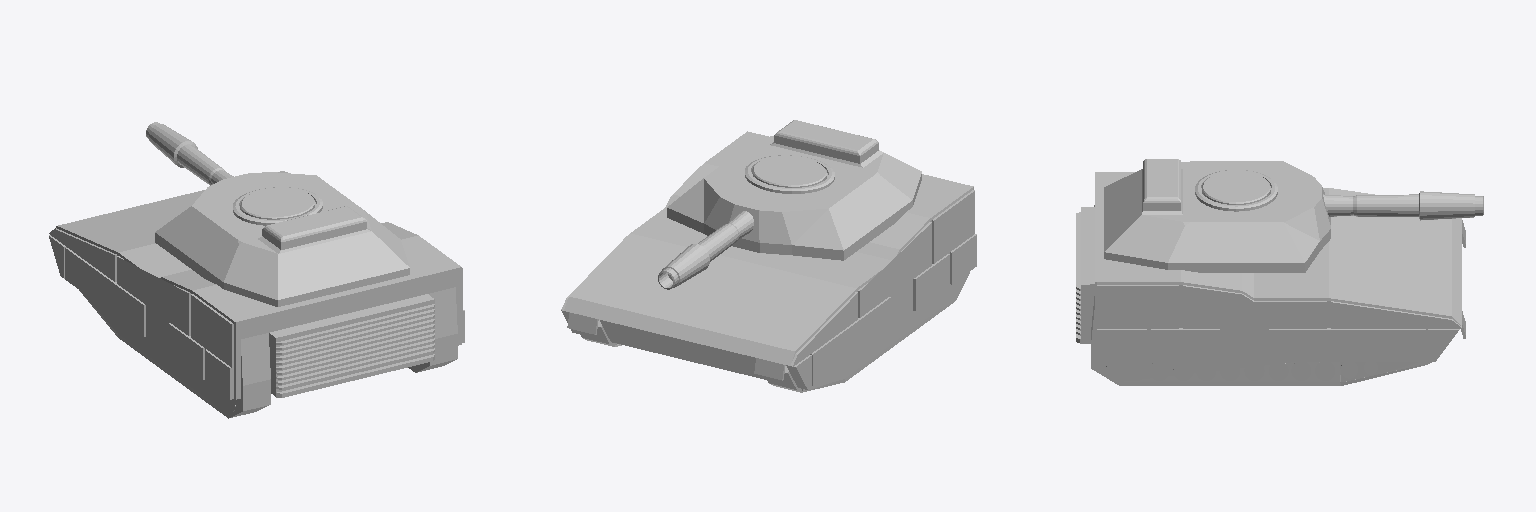
The model's file is tank013.obj.
The picture shows the model from 3 angles: view 1: azimuth 30°, elevation 25°; view 2: azimuth 150°, elevation 25°; view 3: azimuth 270°, elevation 25°; orthographic projection.
Visible parts, largest first — view 1: tank013.obj; view 2: tank013.obj; view 3: tank013.obj.
Part boxes in pixels (x1,y1,x2,y2): tank013.obj: (49, 122, 464, 418); tank013.obj: (561, 120, 976, 392); tank013.obj: (1076, 159, 1483, 385).
Size of the model in its own units: 1 by 0.632 by 1.5.